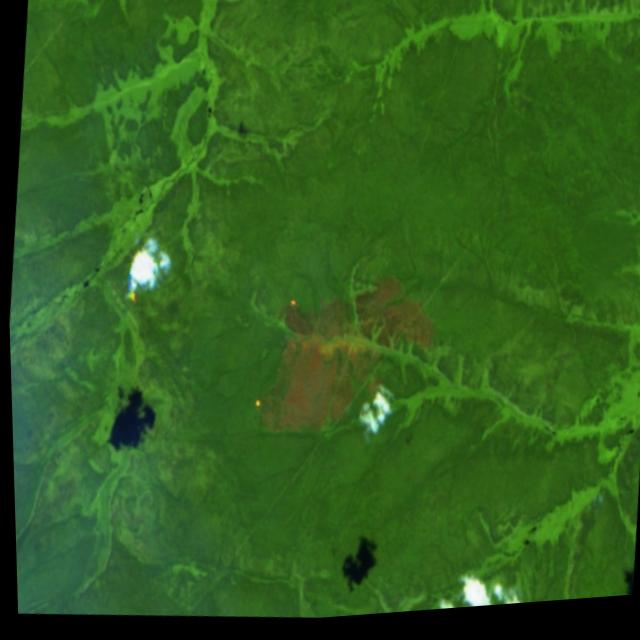fire: (242, 288, 314, 427), (110, 224, 168, 317)
